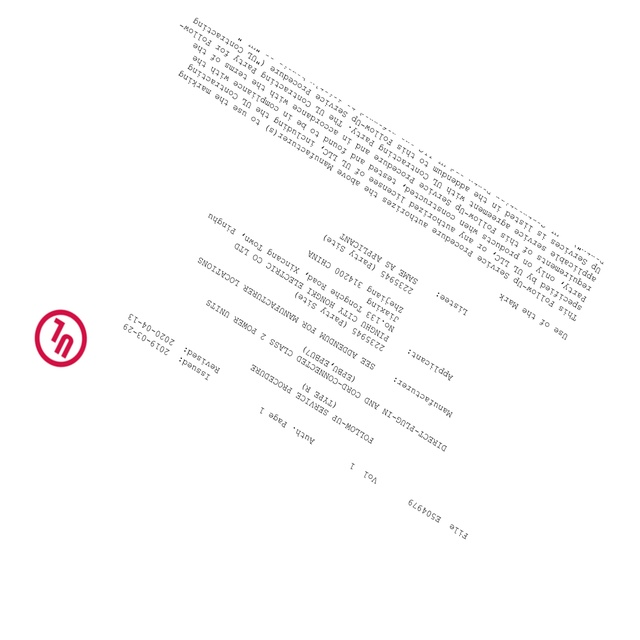ul: (36, 309, 88, 367)
